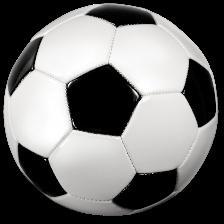Sports-Ball: (2, 2, 218, 224)
